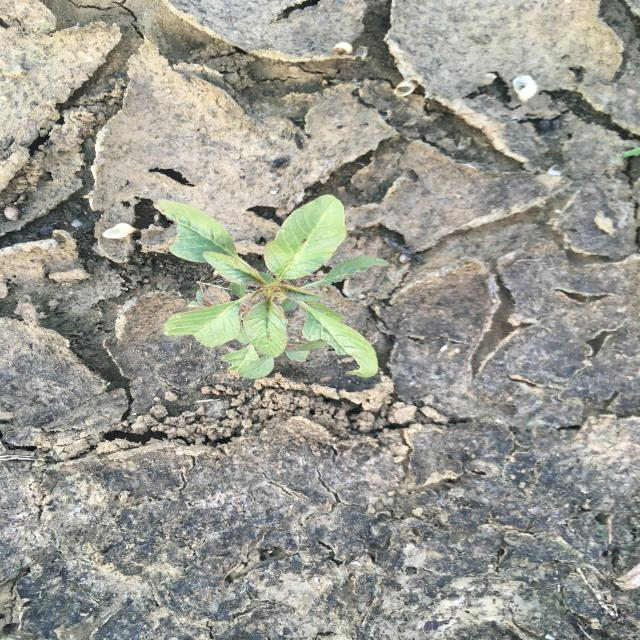Waterhemp: (150, 193, 393, 381)
